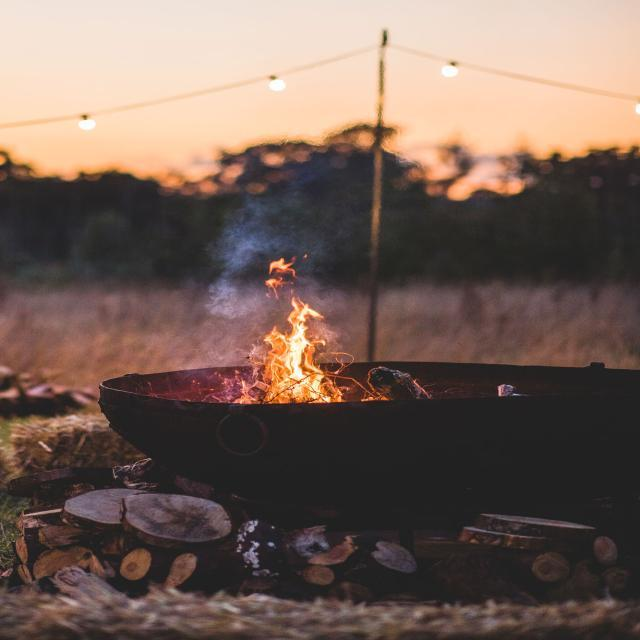Fire: (194, 241, 378, 401)
